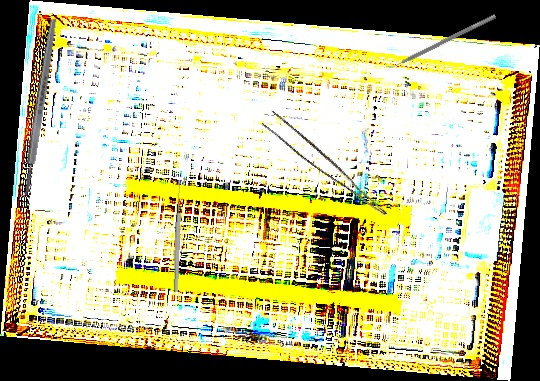Scalpel Handle: (21, 18, 59, 196)
Spatula Surgical: (384, 9, 497, 73)
Surgical Spoon: (173, 179, 183, 293)
Tissue Forceps: (258, 109, 398, 217)
